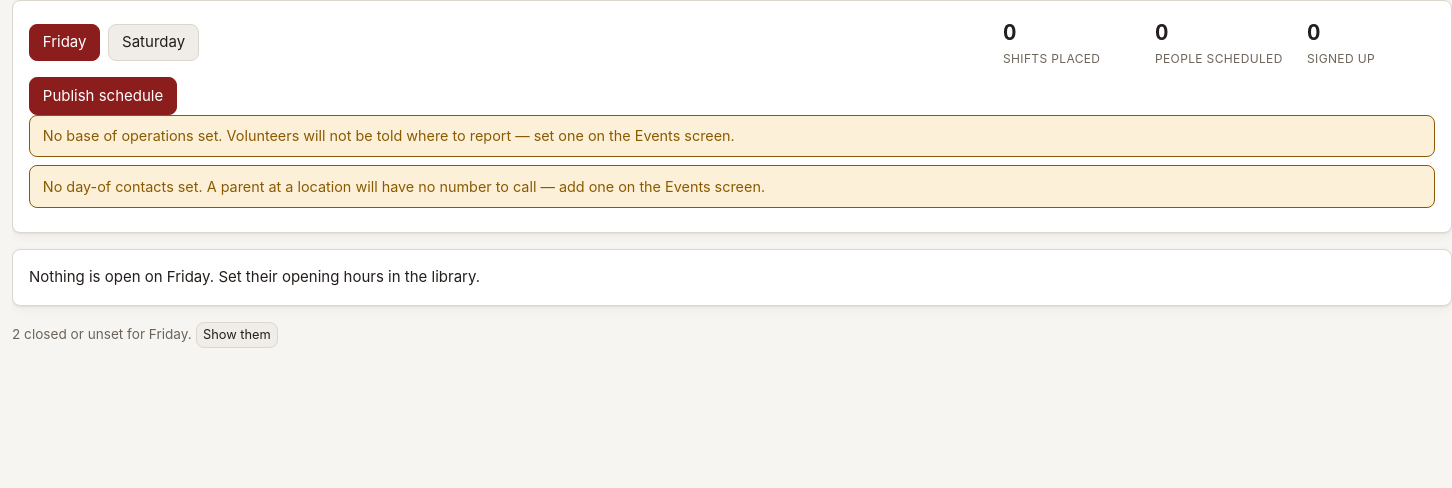
a day marked closed all day › is not confused with a day nobody has recorded
Click the button "Show them". click: (237, 335)
box: [196,322,278,348]
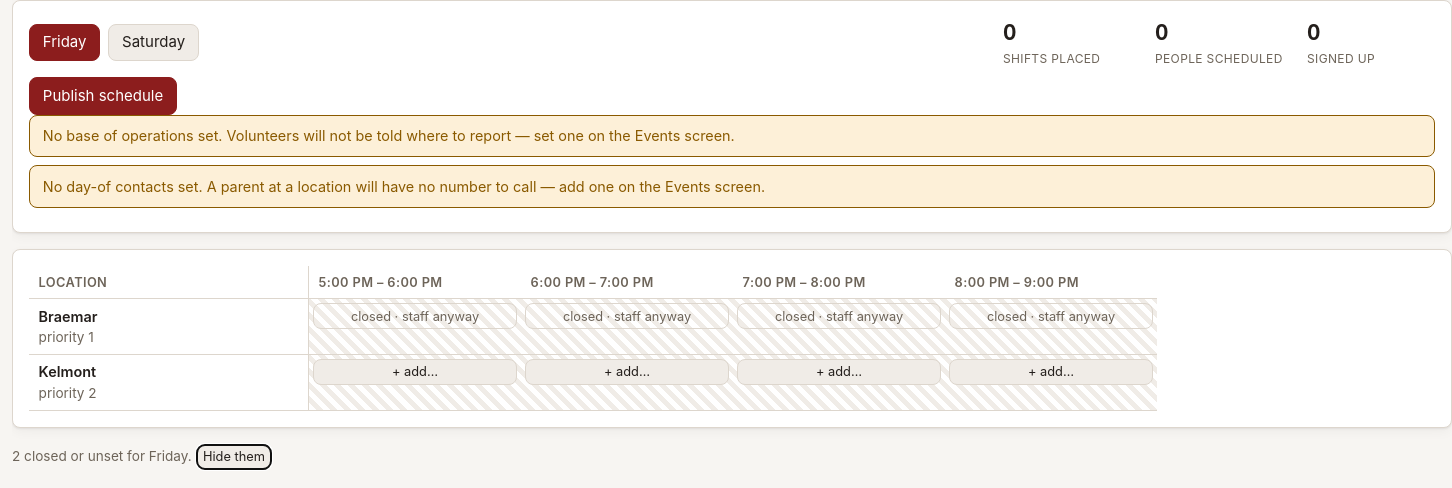
Check: the 1st button with class "cell-add" is shown, box [313,359,517,385]
